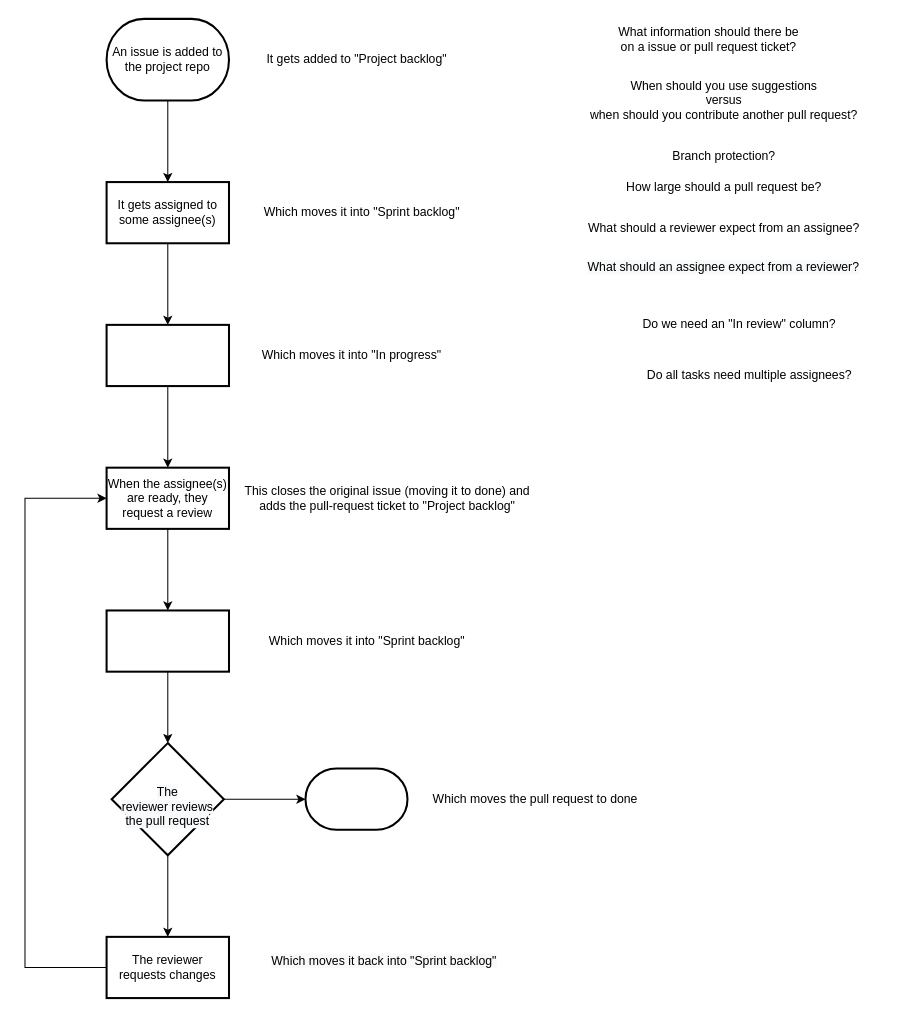
Some shapes in this 910 by 1016 pixel diagram are drawn without their labels. Here are the shapes that lost their labels. From the top down, the centre of each, then its label:
point 167,355: The assignee(s) create a branch and begin working on the issue
point 167,640: Review of the pull request gets assigned to a reviewer
point 356,798: The reviewer a pproves and merges the pull request
